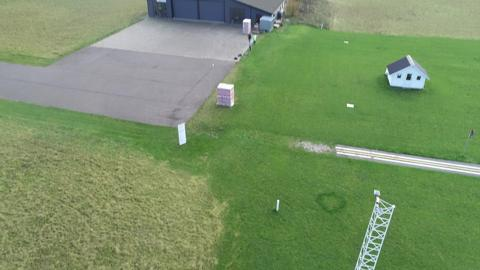RockwoolPallet: (243, 18, 252, 34)
